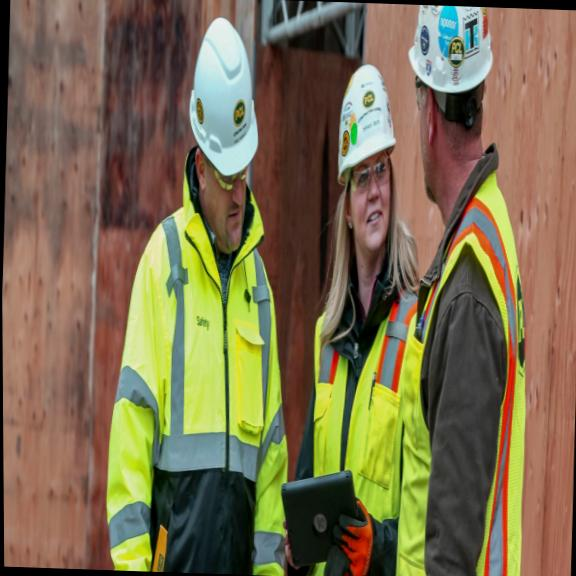safety_vest: (129, 215, 295, 576), (402, 181, 532, 576), (304, 305, 423, 576)
